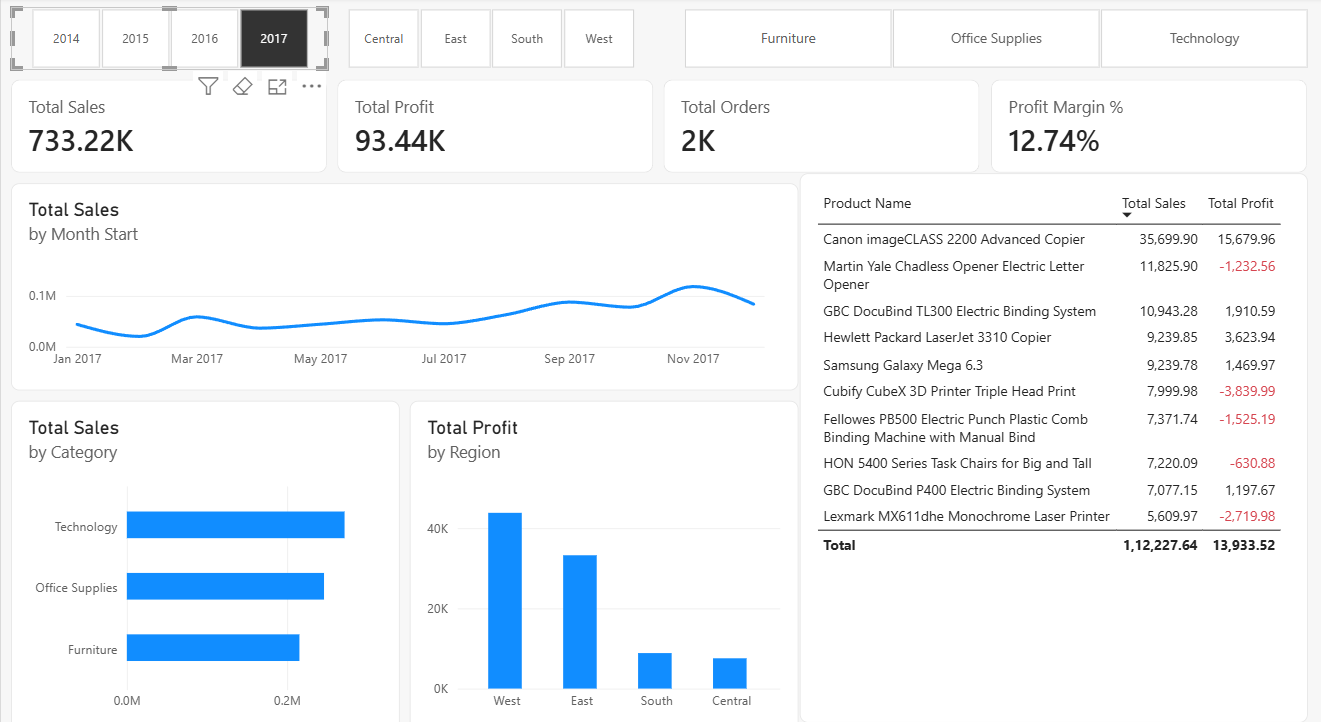

The page's visual inventory and layout, read from the dashboard file:
{"tool":"powerbi","page":{"name":"Dashboard","canvas":[1280,720],"ordinal":0},"visuals":[{"type":"cardVisual","fields":{"Data":["Sales.Total Sales"]},"box":[10,80,305,90],"z":0},{"type":"cardVisual","fields":{"Data":["Sales.Total Profit"]},"box":[325,80,305,90],"z":1000},{"type":"cardVisual","fields":{"Data":["Sales.Total Orders"]},"box":[640,80,305,90],"z":2000},{"type":"cardVisual","fields":{"Data":["Sales.Profit Margin %"]},"box":[955,80,305,90],"z":3000},{"type":"clusteredBarChart","fields":{"Category":["Sales.Category"],"Y":["Sales.Total Sales"]},"box":[10,390,375,320],"z":5000},{"type":"clusteredColumnChart","fields":{"Category":["Sales.Region"],"Y":["Sales.Total Profit"]},"box":[395,390,375,320],"z":6000},{"type":"lineChart","fields":{"Category":["DateTable.Month Start"],"Y":["Sales.Total Sales"]},"box":[10,180,760,200],"z":7000},{"type":"tableEx","fields":{"Values":["Sales.Product Name","Sales.Total Sales","Sales.Total Profit"]},"box":[770.9,170.1,490,530],"z":8000},{"type":"slicer","fields":{"Values":["DateTable.Year"]},"box":[9.7,9.7,305.2,60.3],"z":9000},{"type":"slicer","fields":{"Values":["Sales.Region"]},"box":[314.9,9.7,314.9,60.3],"z":10000},{"type":"slicer","fields":{"Values":["Sales.Category"]},"box":[639.4,9.7,640.6,60.3],"z":11000}]}

Visuals, with their boxes in screenshot pixels (x1, y1, x2, y2), scaled from the page's 1280x720 canvas onto the 1321x722 screenshot:
cardVisual - Sales.Total Sales: x1=10, y1=80, x2=325, y2=170
cardVisual - Sales.Total Profit: x1=335, y1=80, x2=650, y2=170
cardVisual - Sales.Total Orders: x1=660, y1=80, x2=975, y2=170
cardVisual - Sales.Profit Margin %: x1=986, y1=80, x2=1300, y2=170
clusteredBarChart - Sales.Category x Sales.Total Sales: x1=10, y1=391, x2=397, y2=712
clusteredColumnChart - Sales.Region x Sales.Total Profit: x1=408, y1=391, x2=795, y2=712
lineChart - DateTable.Month Start x Sales.Total Sales: x1=10, y1=180, x2=795, y2=381
tableEx - Sales.Product Name x Sales.Total Sales: x1=796, y1=171, x2=1301, y2=702
slicer - DateTable.Year: x1=10, y1=10, x2=325, y2=70
slicer - Sales.Region: x1=325, y1=10, x2=650, y2=70
slicer - Sales.Category: x1=660, y1=10, x2=1320, y2=70
